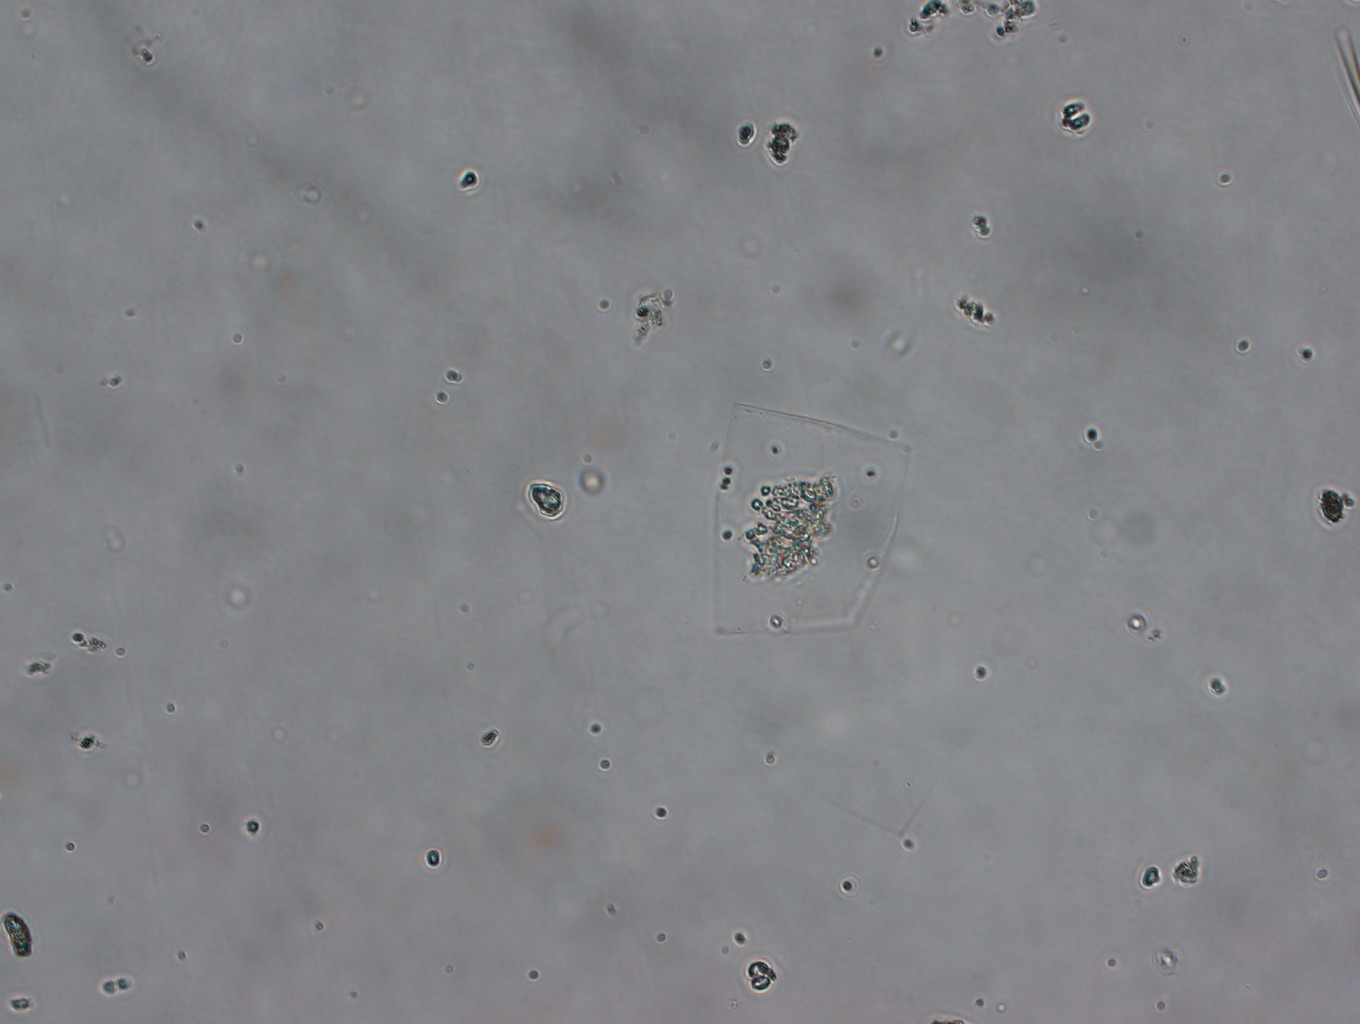helicotheca: (695, 387, 924, 659)
